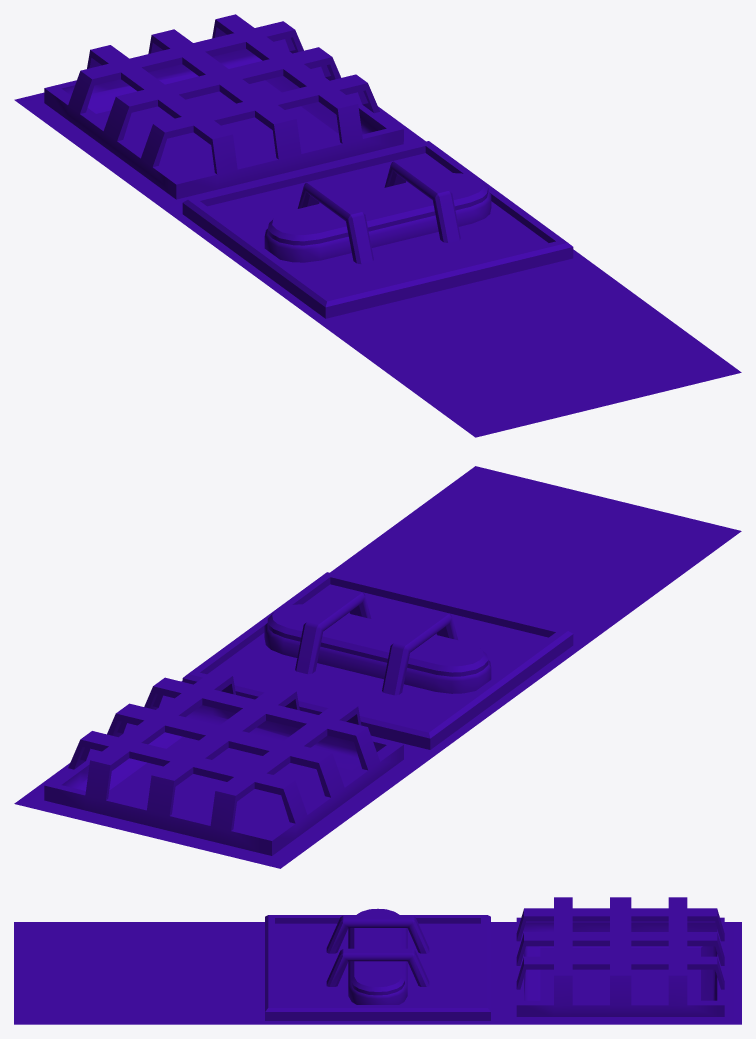
File: Ceilling.fbx
3 renders of one model, top to bottom at view 1: azimuth 30°, elevation 25°; view 2: azimuth 150°, elevation 25°; view 3: azimuth 270°, elevation 25°, orthographic. The views are drawn at different scales.
Parts seen in each view (by area): view 1: Ceilling__1__textureEditorIsolateSelectSetpCube216, Ceilling__1__pCube217, Ceilling__1__pCube55polySurface20700; view 2: Ceilling__1__textureEditorIsolateSelectSetpCube216, Ceilling__1__pCube55polySurface20700, Ceilling__1__pCube217; view 3: Ceilling__1__textureEditorIsolateSelectSetpCube216, Ceilling__1__pCube217, Ceilling__1__pCube55polySurface20700.
Boxes of the visible parts, x1=… form: Ceilling__1__textureEditorIsolateSelectSetpCube216: x1=14, y1=14, x2=425, y2=212; Ceilling__1__pCube217: x1=168, y1=141, x2=587, y2=324; Ceilling__1__pCube55polySurface20700: x1=322, y1=260, x2=741, y2=437; Ceilling__1__textureEditorIsolateSelectSetpCube216: x1=14, y1=670, x2=433, y2=868; Ceilling__1__pCube55polySurface20700: x1=330, y1=466, x2=741, y2=643; Ceilling__1__pCube217: x1=181, y1=572, x2=587, y2=756; Ceilling__1__textureEditorIsolateSelectSetpCube216: x1=499, y1=897, x2=741, y2=1024; Ceilling__1__pCube217: x1=256, y1=908, x2=499, y2=1024; Ceilling__1__pCube55polySurface20700: x1=14, y1=922, x2=256, y2=1024.
Bounding box in the file's own units: 1 × 0.2091 × 3.
